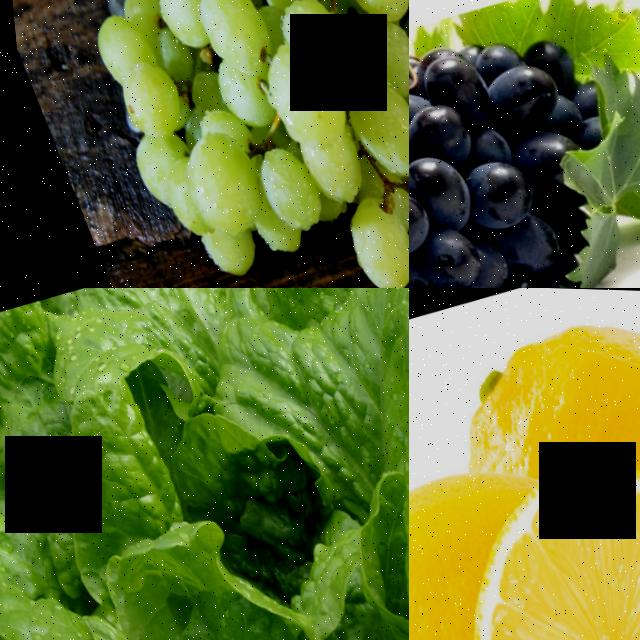grapes: (0, 0, 409, 288), (409, 0, 640, 288)
lemon: (419, 476, 640, 640), (409, 474, 552, 640)
lettuce: (0, 288, 409, 640)
